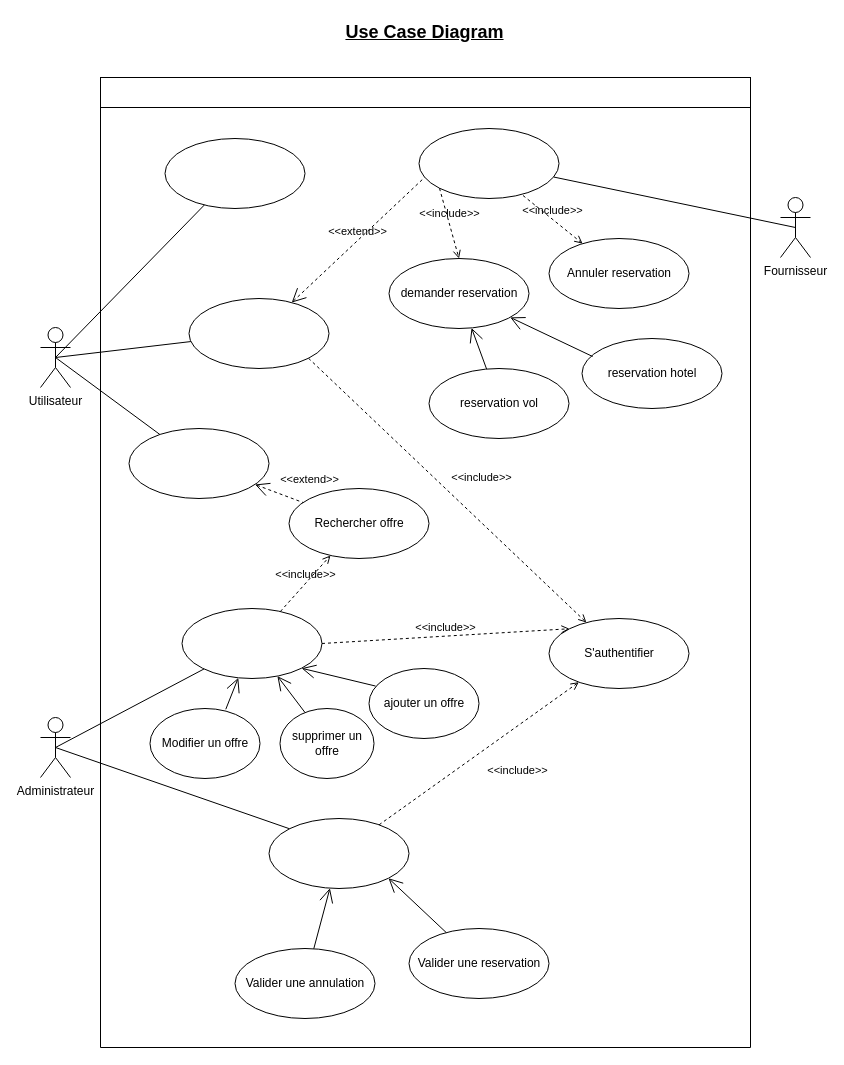
Some shapes in this 844 by 1065 pixel diagram are drawn without their labels. Each missing label, with the box of its shape:
Consulter les offres: (128, 428, 269, 498)
consulter reservation: (418, 128, 559, 198)
Créer compte: (164, 138, 305, 208)
Gérer Compte: (188, 298, 329, 368)
Gérer les demandes des utilisateurs: (268, 818, 409, 888)
Gérer les offres: (181, 608, 322, 678)
Swiftn: (100, 76, 750, 108)
